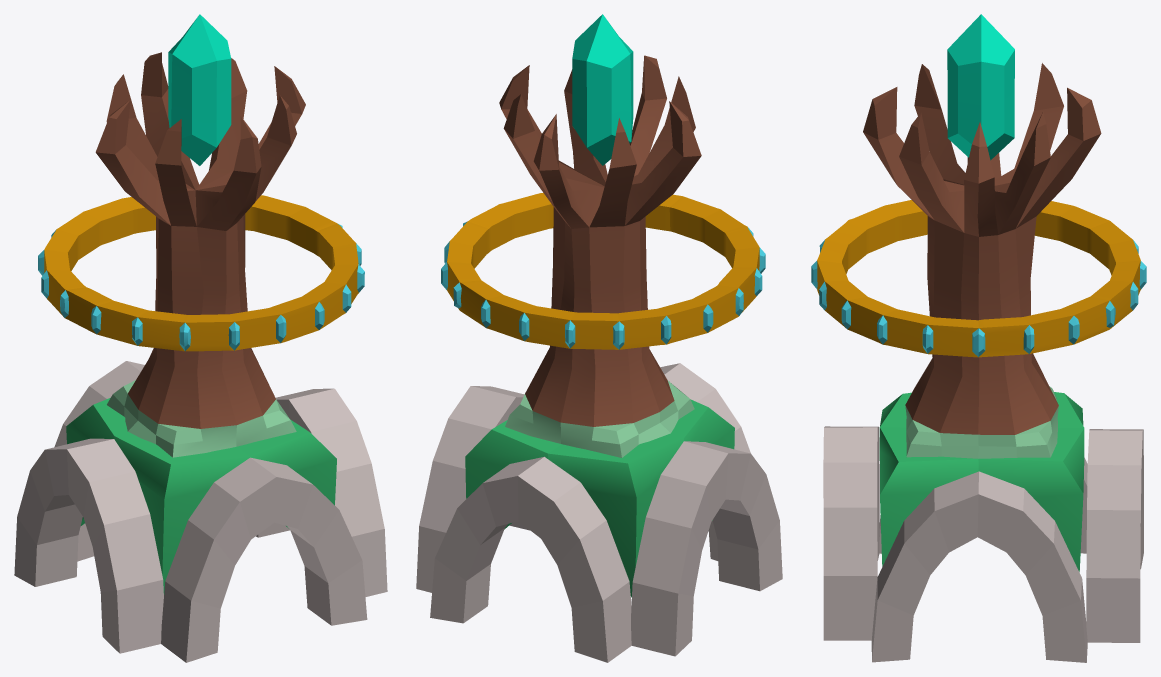
Rendered from Turret.fbx.
3 renders of one model, left to right at view 1: azimuth 30°, elevation 25°; view 2: azimuth 150°, elevation 25°; view 3: azimuth 270°, elevation 25°, orthographic. The views are drawn at different scales.
Parts seen in each view (by area): view 1: group17_pasted__polySurface2, pasted__group5_pasted__group4_pasted__pasted__pCube4, group19_pasted__pCube3; view 2: group17_pasted__polySurface2, pasted__group5_pasted__group4_pasted__pasted__pCube4, group19_pasted__pCube3; view 3: group17_pasted__polySurface2, pasted__group5_pasted__group4_pasted__pasted__pCube4, group19_pasted__pCube3.
Boxes of the visible parts, <box> form: group17_pasted__polySurface2: <box>14,52,387,662</box>; pasted__group5_pasted__group4_pasted__pasted__pCube4: <box>38,195,364,351</box>; group19_pasted__pCube3: <box>168,14,231,165</box>; group17_pasted__polySurface2: <box>416,55,782,662</box>; pasted__group5_pasted__group4_pasted__pasted__pCube4: <box>441,193,765,349</box>; group19_pasted__pCube3: <box>572,14,633,165</box>; group17_pasted__polySurface2: <box>823,63,1143,662</box>; pasted__group5_pasted__group4_pasted__pasted__pCube4: <box>811,200,1146,357</box>; group19_pasted__pCube3: <box>947,14,1014,160</box>.
Bounding box in the file's own units: 6.65 × 12.89 × 6.73.
